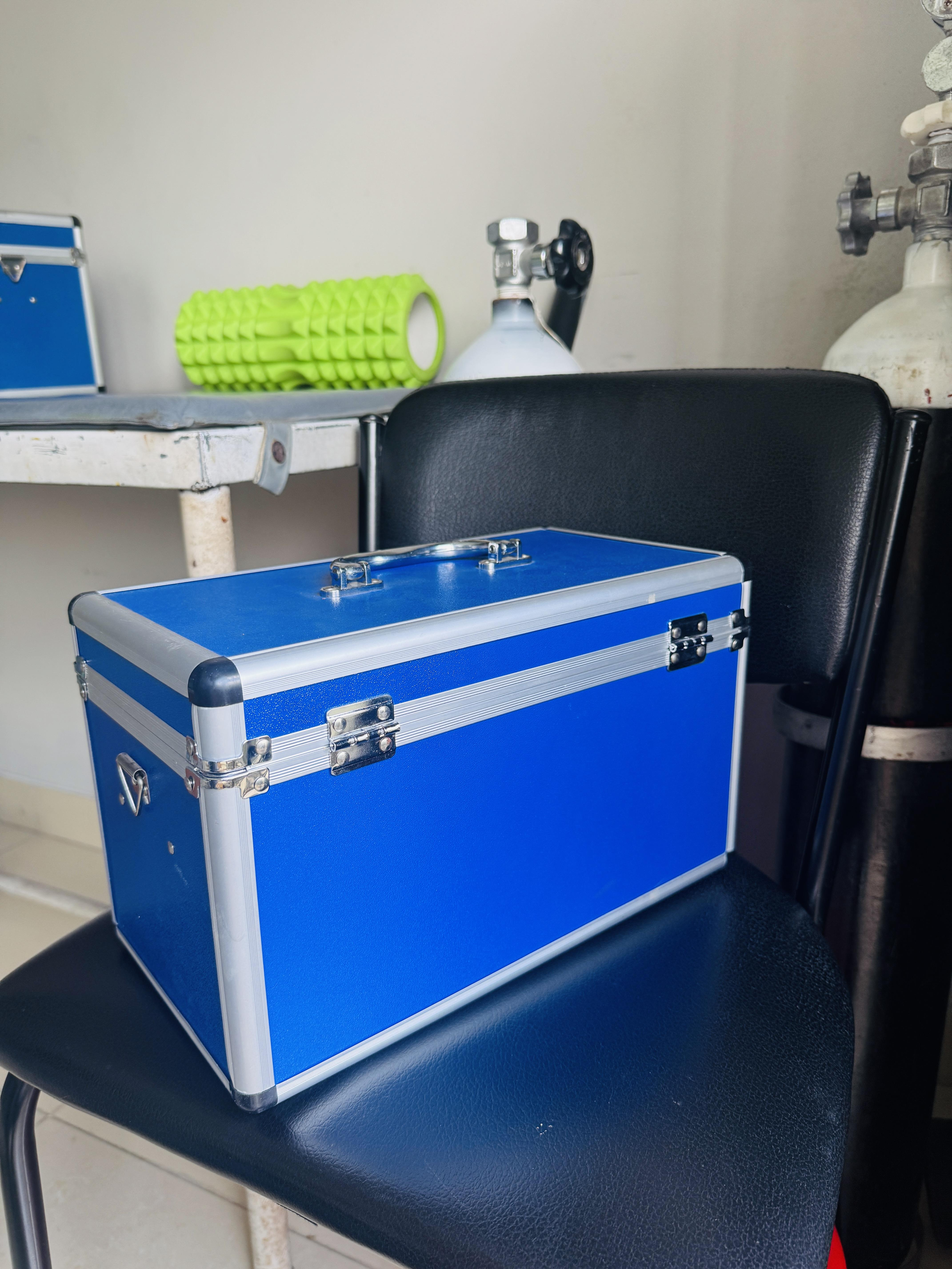FirstAidBox: (60, 507, 796, 1131)
